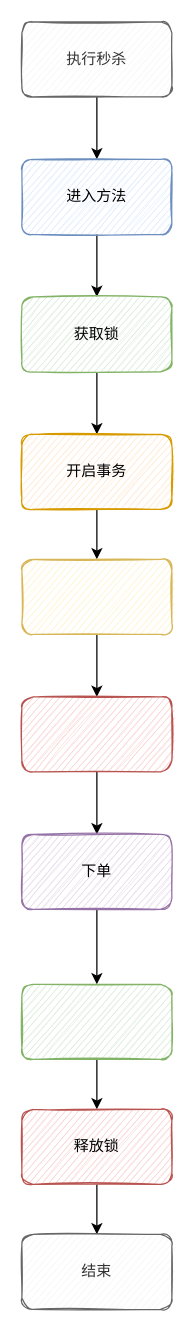
This 194x1331 diagram has some shape labels left out. Here are the shapes that lost their labels. From the top down, the centre of each, then its label:
the point at 96,596: 读库存
the point at 96,734: 预扣库存
the point at 96,1021: 提交事务
